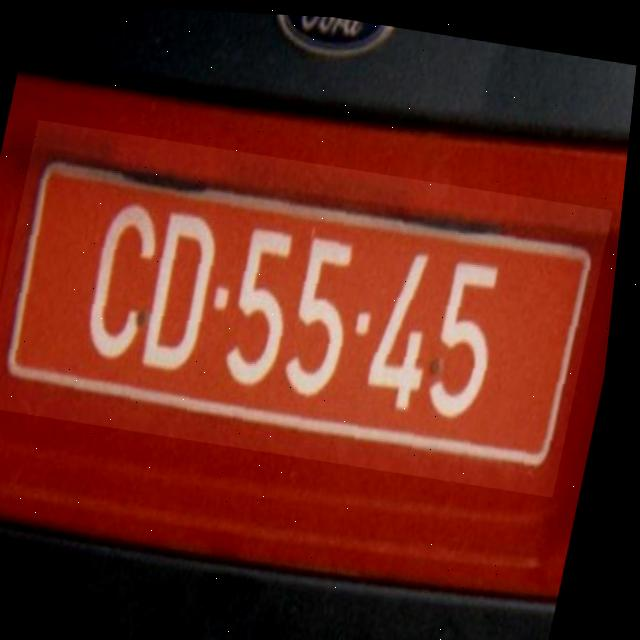LicensePlate: (0, 117, 621, 492)
